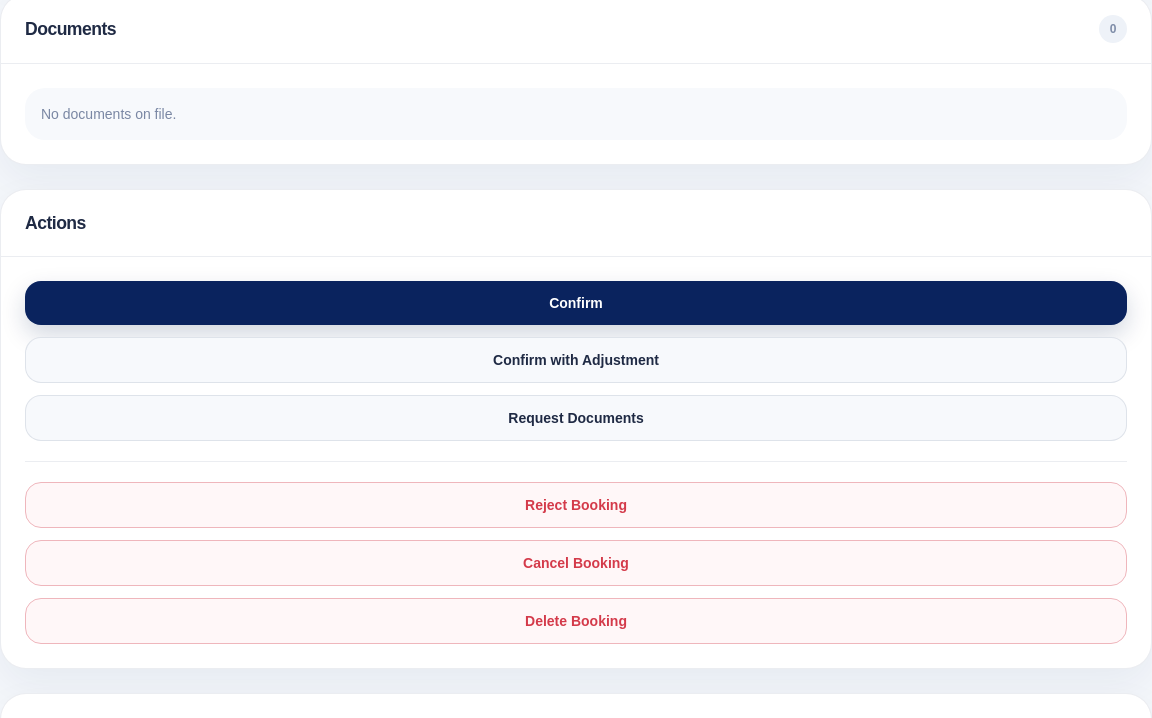
Test case: AdminBookingDetail › shows inline validation in the adjust booking modal
(page scrolled)
Click the button "Confirm with Adjustment" at [576, 360], box [25,337,1127,383]
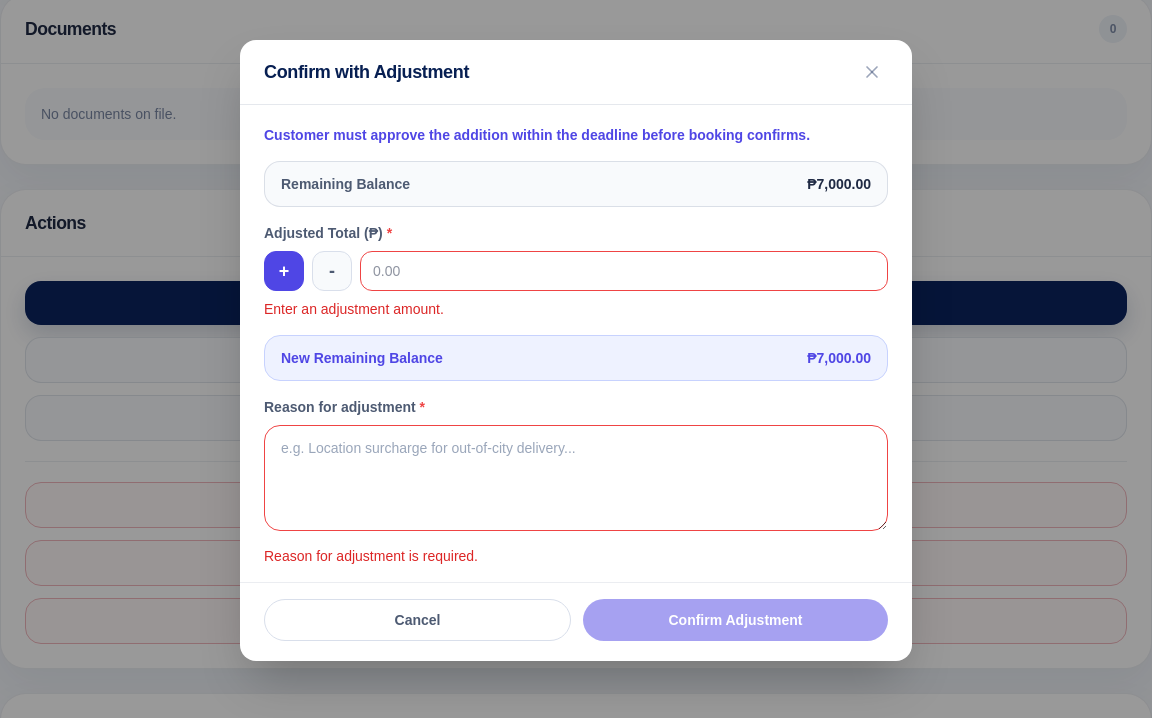
Result: the text "Enter an adjustment amount." is shown at [264,301,444,317]
Result: the text "Reason for adjustment is required." is shown at [264,548,478,564]
Click the button "-" at [332, 271], box [312,251,352,291]
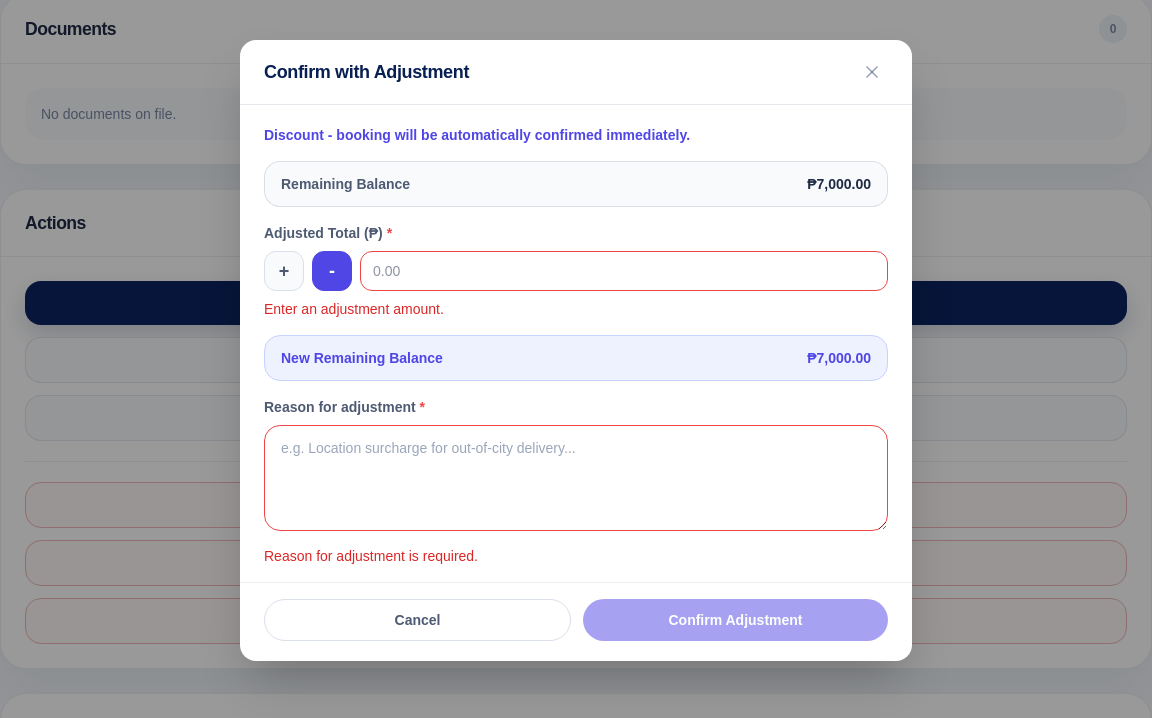
Type "8000" into the number field with placeholder "0.00" at [624, 271], box [360,251,888,291]
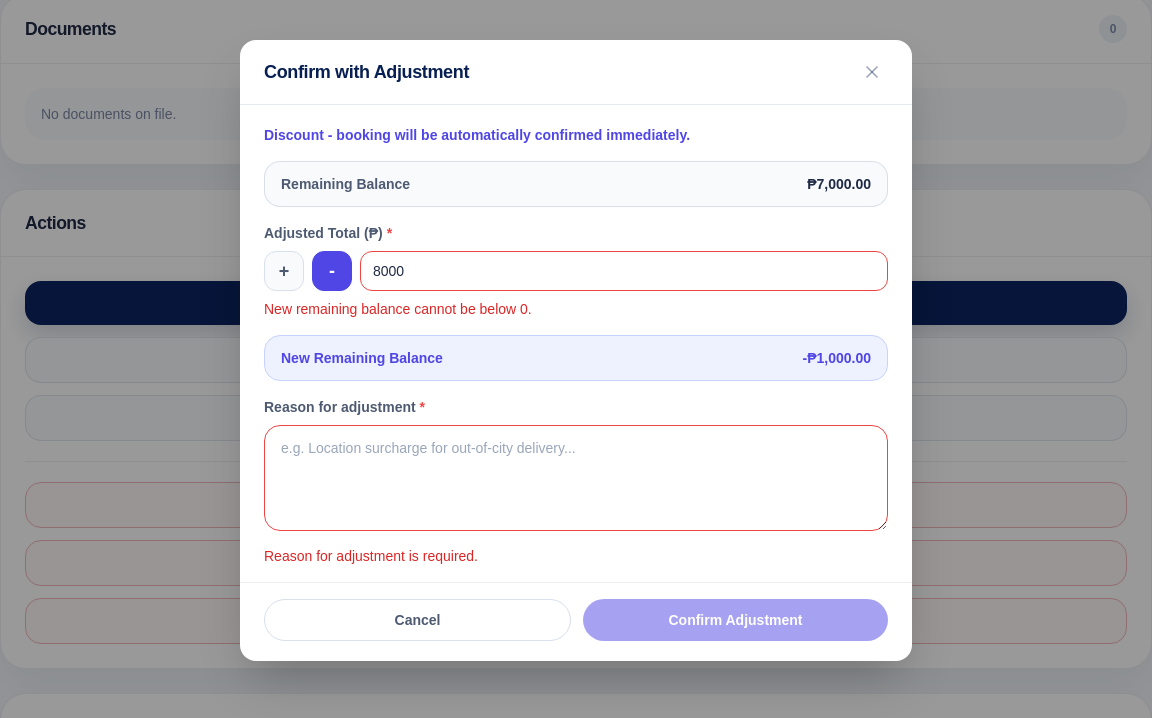
Result: the button "Confirm Adjustment" is disabled at [583,599,888,641]
Result: the text "New remaining balance cannot be below 0." is shown at [264,301,532,317]
